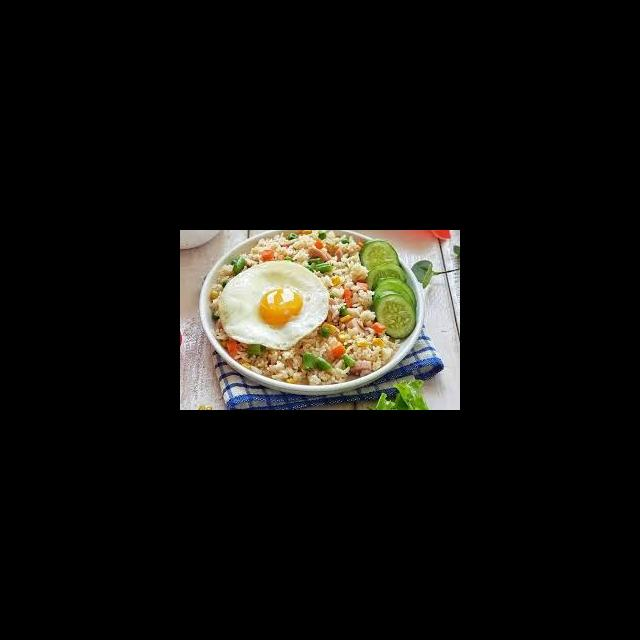food_waste: (226, 261, 379, 360)
